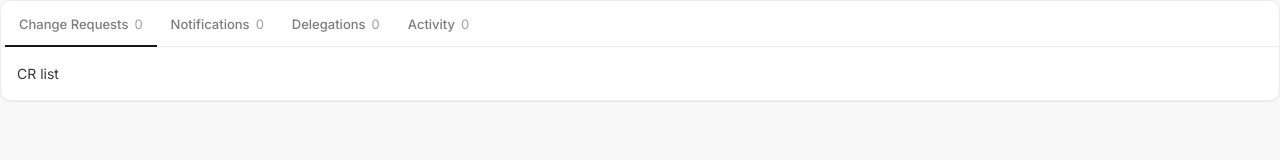
Test: GovernancePanel — Activity tab (change history) › keeps the panel open (no collapse) for a provided Activity slot at zero counts
This screenshot has width=1280, height=160.
Click the tab "Activity 0".
click(438, 26)  # box [394, 5, 483, 46]
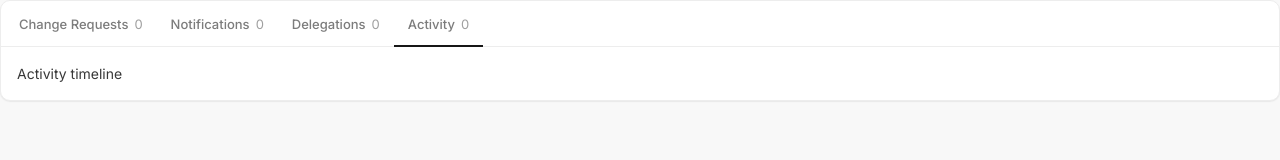
Now the text "Activity timeline" is shown, box [17, 64, 122, 82]
